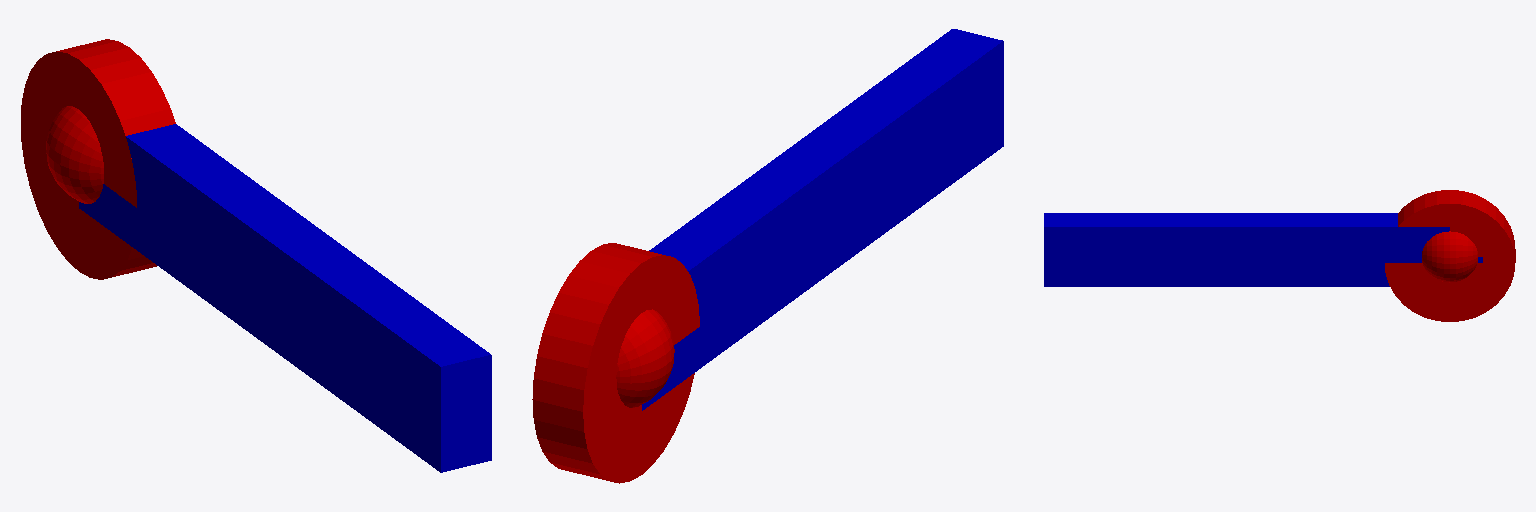
URDF robot description (TwoLinkStruct7408281446):
<?xml version="1.0"?>
<robot  name="TwoLinkStruct7408281446" >
 <material  name="blue" >
  <color  rgba="0 0 0.8 1.0" />
 </material>
 <material  name="red" >
  <color  rgba="0.8 0 0 1.0" />
 </material>
 <link  name="base_link" >
  <visual >
   <origin  rpy="0 1.5707 0"  xyz="0 0 0" />
   <material  name="red" />
   <geometry >
    <cylinder  length="0.05"  radius="0.1" />
   </geometry>
  </visual>
 </link>
 <joint  type="revolute"  name="joint1" >
  <parent  link="base_link" />
  <child  link="link1" />
  <origin  xyz="0 0 0"  rpy="0 0 0" />
  <axis  xyz="1 0 0" />
 </joint>
 <link  name="link1" >
  <inertial >
   <origin  rpy="0 0 0"  xyz="0 0 0.005" />
   <mass  value="0.028457350730895996" />
   <inertia  ixy="0.0"  iyy="1.1857229471206666e-05"  izz="6.165759325027466e-06"  ixz="0.0"  ixx="6.165759325027466e-06"  iyz="0.0" />
  </inertial>
  <visual >
   <origin  rpy="0 0 0"  xyz="0 0 0.005" />
   <material  name="blue" />
   <geometry >
    <box  size="0.05 0.1 0.01" />
   </geometry>
  </visual>
 </link>
 <joint  type="fixed"  name="joint-joint-1" >
  <parent  link="link1" />
  <child  link="joint-link-1" />
  <origin  xyz="0 0 0.01"  rpy="1.5707 0 0" />
  <axis  xyz="1 0 0" />
 </joint>
 <link  name="joint-link-1" >
  <inertial >
   <origin  rpy="0 0 0"  xyz="0 0 0" />
   <mass  value="1.0685181488460338" />
   <inertia  ixy="0"  iyy="0"  izz="0"  ixz="0"  ixx="0"  iyz="0" />
  </inertial>
  <visual >
   <origin  rpy="0 0 0"  xyz="0 0 0" />
   <material  name="red" />
   <geometry >
    <sphere  radius="0.05" />
   </geometry>
  </visual>
 </link>
 <joint  type="revolute"  name="joint2" >
  <parent  link="link1" />
  <child  link="link2" />
  <origin  xyz="0 0 0.01"  rpy="1.5707 0 0" />
  <axis  xyz="1 0 0" />
 </joint>
 <link  name="link2" >
  <inertial >
   <origin  rpy="0 0 0"  xyz="0 0 0.30937081075797" />
   <mass  value="1.8530857971449237" />
   <inertia  ixy="0.0"  iyy="1.1857229471206666e-05"  izz="0.0009138157928585708"  ixz="0.0"  ixx="0.0009138157928585708"  iyz="0.0" />
  </inertial>
  <visual >
   <origin  rpy="0 0 0"  xyz="0 0 0.30937081075797" />
   <material  name="blue" />
   <geometry >
    <box  size="0.05 0.1 0.61874162151594" />
   </geometry>
  </visual>
 </link>
 <joint  type="fixed"  name="eef_joint" >
  <parent  link="link2" />
  <child  link="eef" />
  <origin  xyz="0 0 0.61874162151594"  rpy="0 0 0" />
 </joint>
 <link  name="eef" >
  <inertial >
   <origin  rpy="0 0 0"  xyz="0 0 0" />
   <mass  value="1" />
   <inertia  ixy="0"  iyy="0"  izz="0"  ixz="0"  ixx="0"  iyz="0" />
  </inertial>
 </link>
 <transmission  name="motor1" >
  <type  xmltext="SimpleTransmission" >
   SimpleTransmission
  </type>
  <actuator  name="motor1" >
   <mechanicalreduction  xmltext="1" >
    1
   </mechanicalreduction>
  </actuator>
  <joint  name="joint1" />
 </transmission>
 <transmission  name="motor2" >
  <type  xmltext="SimpleTransmission" >
   SimpleTransmission
  </type>
  <actuator  name="motor2" >
   <mechanicalreduction  xmltext="1" >
    1
   </mechanicalreduction>
  </actuator>
  <joint  name="joint2" />
 </transmission>
</robot>

<!-- {'carti': array([-0.1 ,  0.14,  0.85]), 'cartd': array([-0.1 ,  0.32,  1.29]), 'tau_mu': 0.8088930385822711, 'b0': 0.11804741795708382, 'Km': 0.9411460880066753, 'k_velocity': 62.9450245505911, 'tau_max_m': 0.33245735827313694, 'omega_max_m': 5404.139677050661, 'gear_ratio': 14.511801374297868, 'Kp': 0.0, 'Kd': 88.6380266482234, 'm_m': 1.0685181488460338, 'l1': 0.01, 'l2': 0.61874162151594, 'k1': 29745.55204032356, 'k2': 334436730.3077089, 'k3': 325238317.42811406}-->

--- Facts derived from the render (not from the file) ---
3 views of the same robot in one strip: view 1: azimuth 30°, elevation 25°; view 2: azimuth 150°, elevation 25°; view 3: azimuth 270°, elevation 25° (orthographic).
Robot: TwoLinkStruct7408281446 — 5 links, 4 joints (2 revolute, 2 fixed); root link base_link; default pose: all joints at 0.
Visible links, largest first — view 1: link2, base_link, joint-link-1; view 2: link2, base_link, joint-link-1; view 3: link2, base_link, joint-link-1.
Link boxes in pixels (<box>): link2: <box>79,124,491,472</box>; base_link: <box>21,39,175,279</box>; joint-link-1: <box>46,106,103,203</box>; link2: <box>642,29,1003,410</box>; base_link: <box>532,243,699,483</box>; joint-link-1: <box>616,309,674,407</box>; link2: <box>1044,213,1449,286</box>; base_link: <box>1385,190,1515,321</box>; joint-link-1: <box>1422,231,1477,282</box>.
Bounding box of the posed robot: 0.1 × 0.7187 × 0.2 m (x, y, z).
Geometry: primitives only (box / cylinder / sphere), no mesh files.
